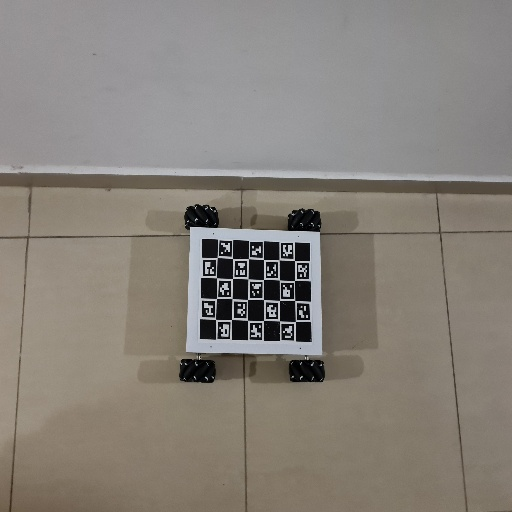Omniwheel: (179, 204, 326, 385)
